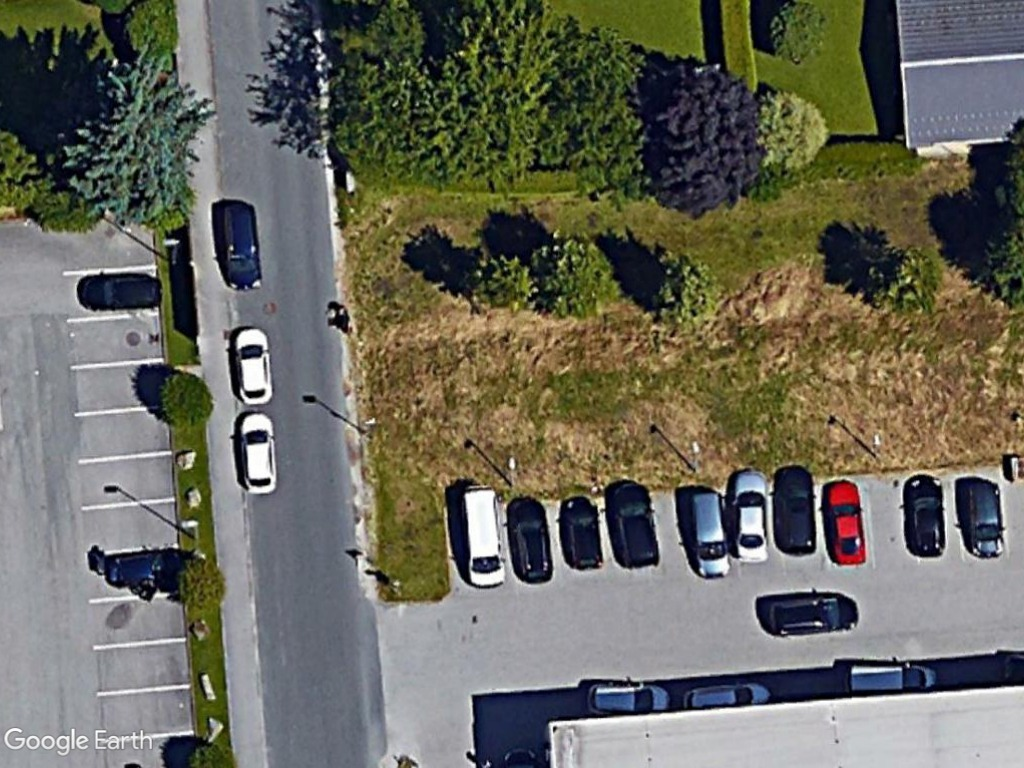car: (757, 588, 861, 642), (216, 198, 267, 293), (607, 480, 661, 569), (769, 461, 818, 559), (900, 470, 951, 562), (726, 465, 774, 562), (686, 486, 734, 582), (226, 322, 277, 408), (958, 474, 1007, 562), (822, 475, 867, 567), (233, 408, 280, 496)
van: (457, 483, 508, 591)
